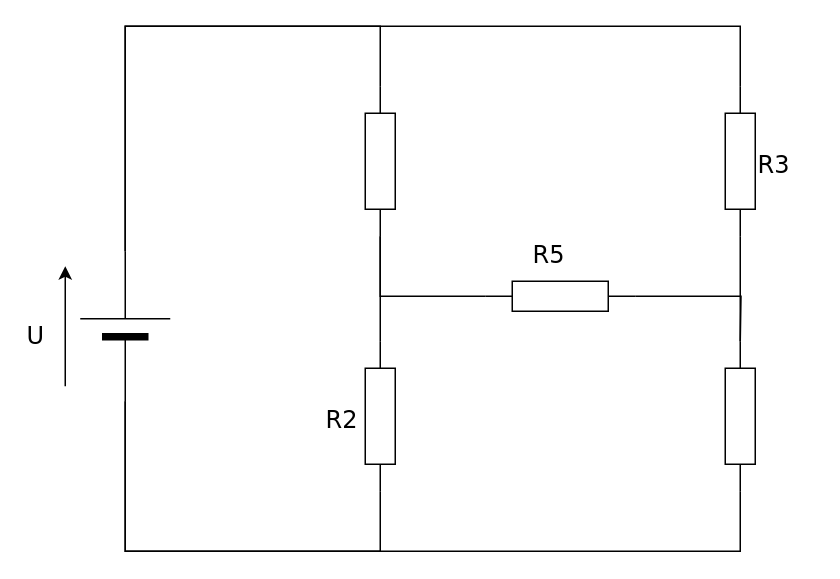
The diagram is 840 pixels wide and 579 high, and some of its shapes have lost their labels. Here are the shapes that lost their labels. From the top down, the box of each, then its label:
(364, 85, 395, 236): R1
(724, 340, 755, 491): R4
